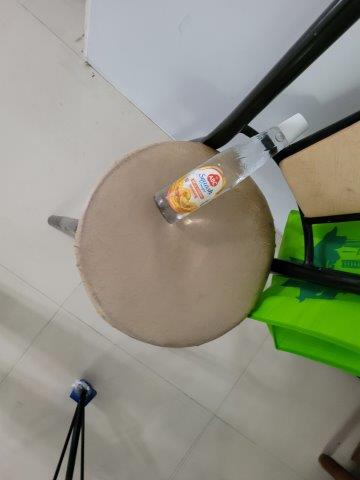botolkaca: (153, 112, 307, 224)
